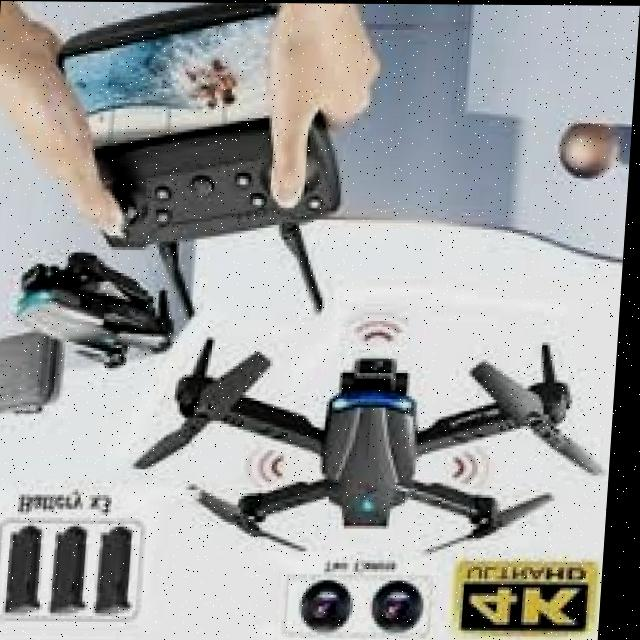drone: (132, 312, 611, 553)
